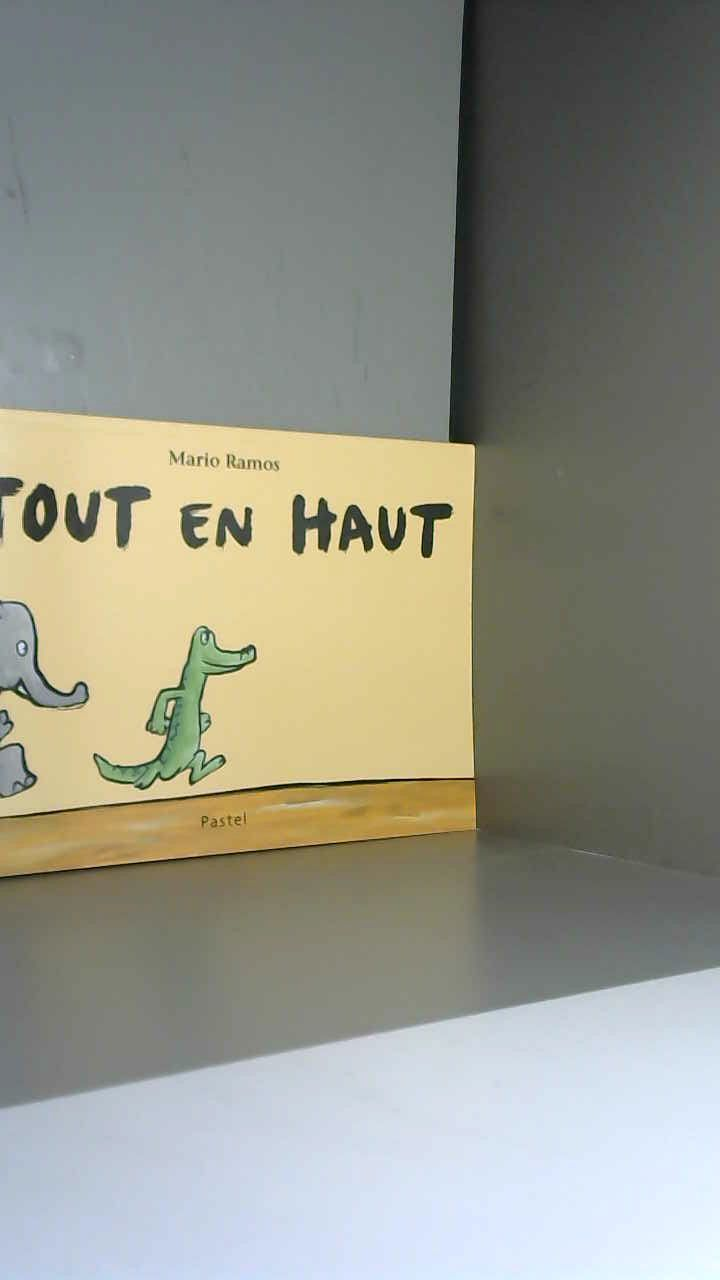book: (0, 395, 503, 890)
